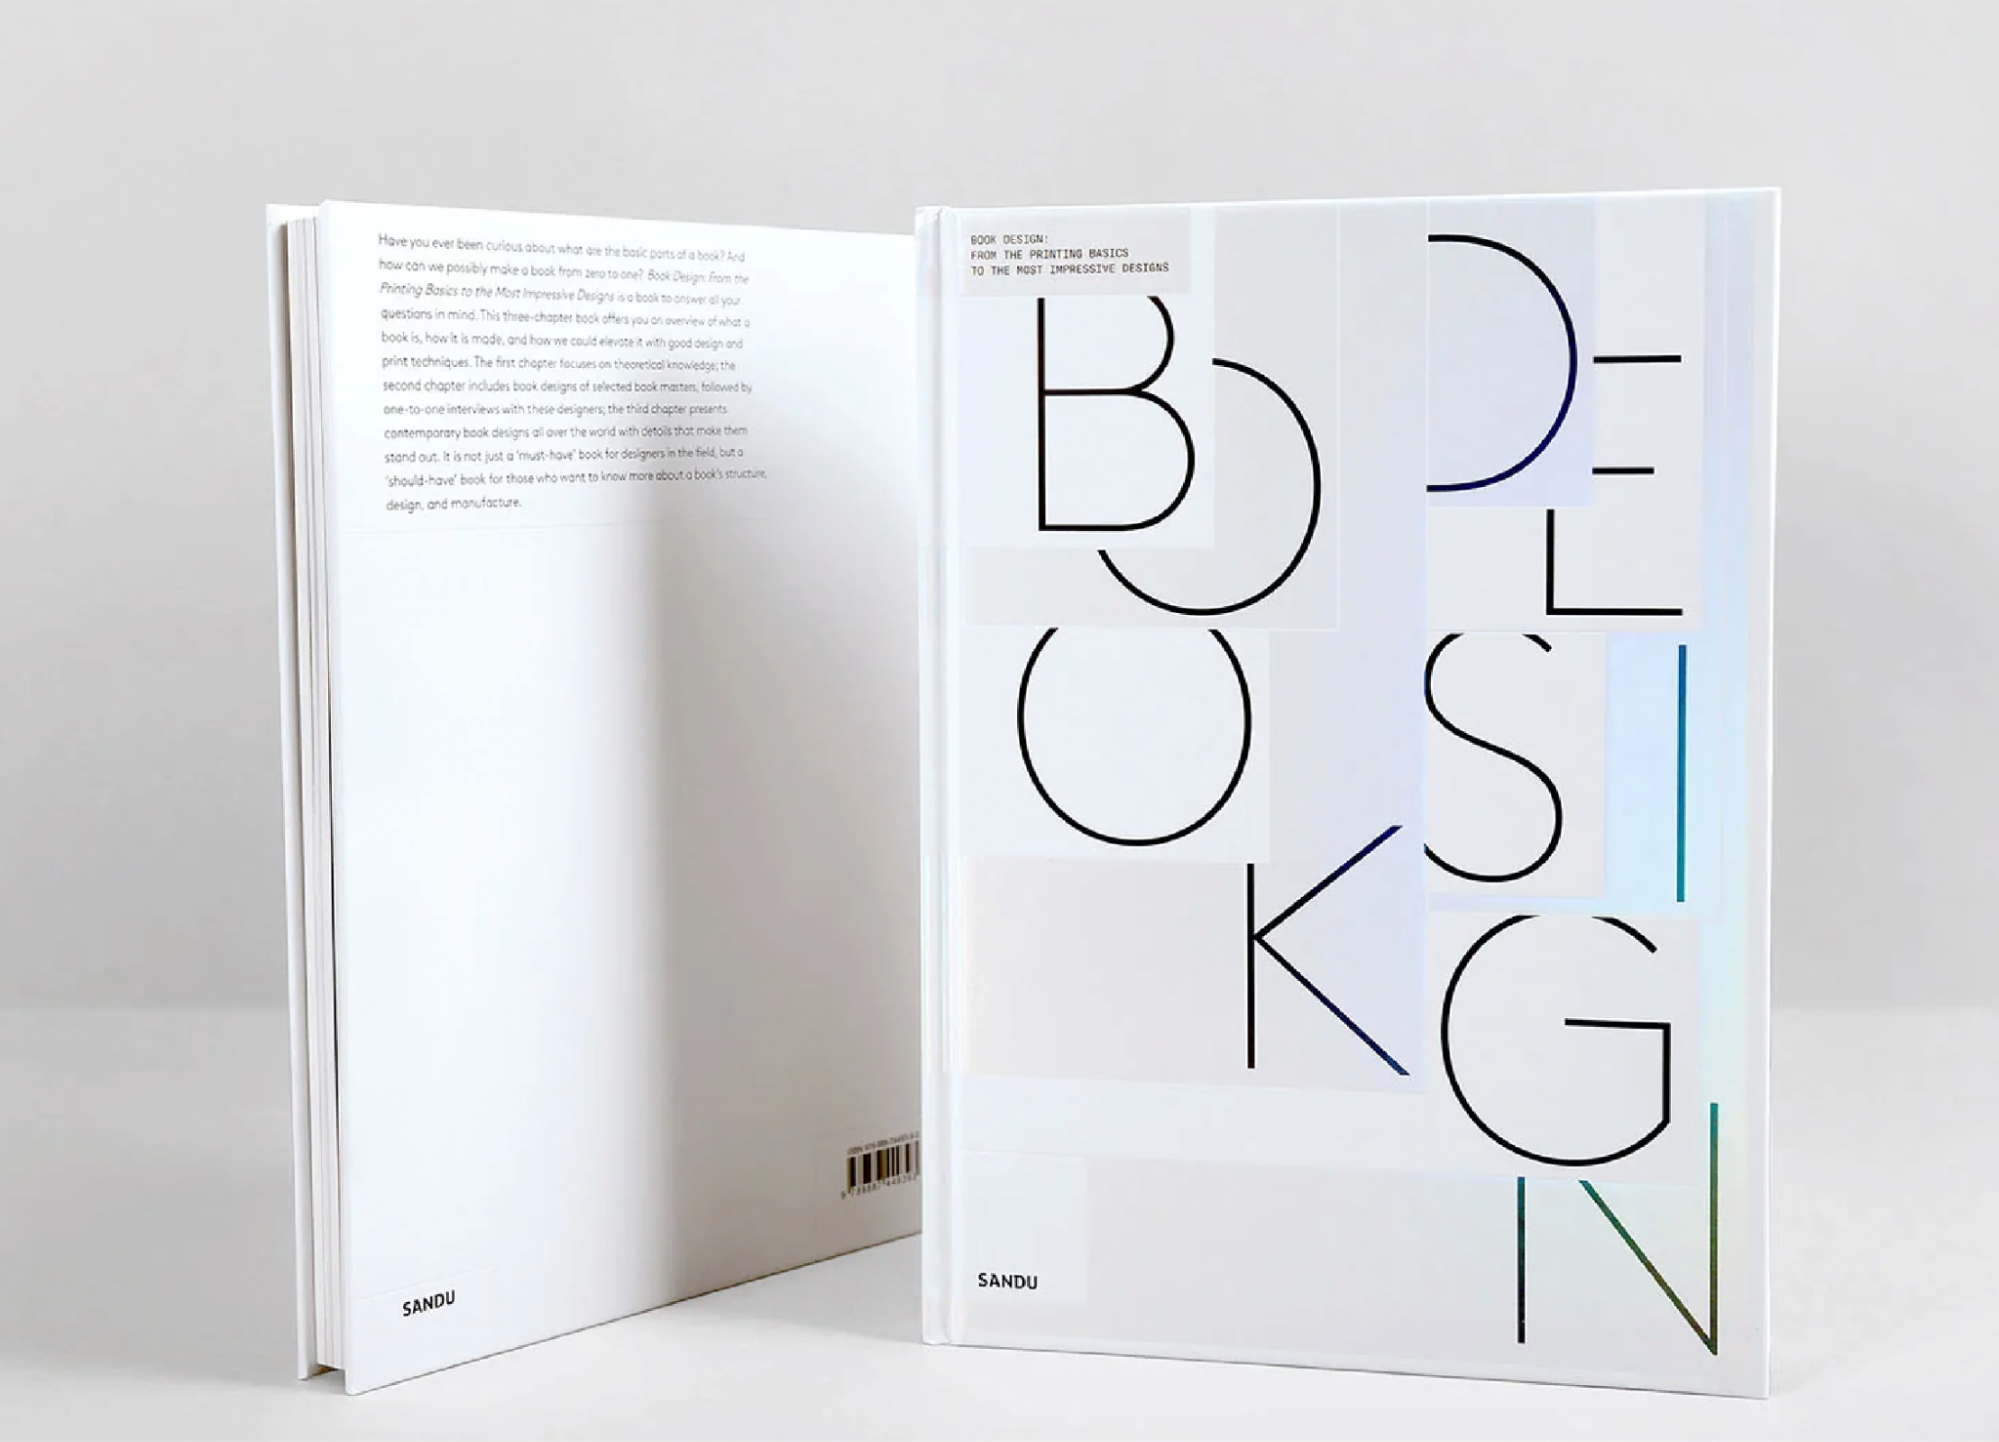book: (911, 197, 1771, 1400), (258, 202, 916, 1400)
